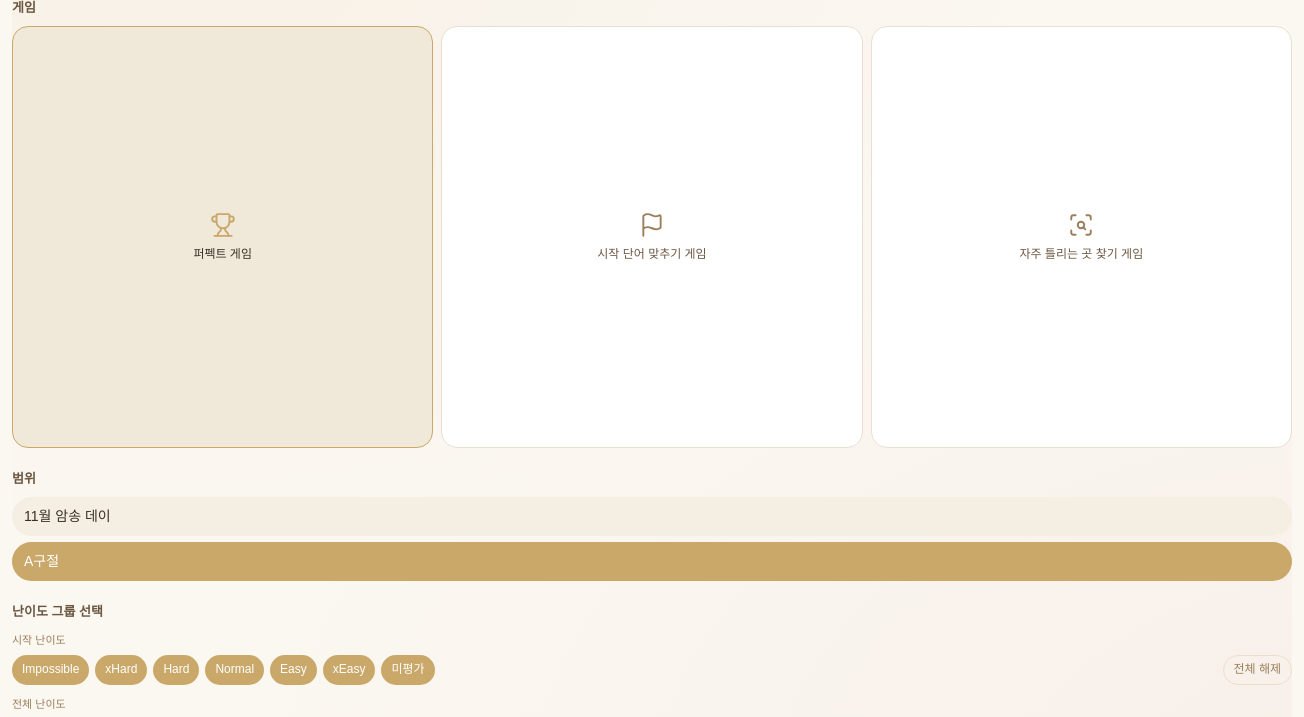
Test: QuizScopePicker — games › disables Quiz! when 자주 틀리는 곳 찾기 has nothing to ask, and says why
This screenshot has width=1304, height=717.
Click the button "자주 틀리는 곳 찾기 게임" at (1081, 237), box [871,26,1292,448]
(page scrolled)
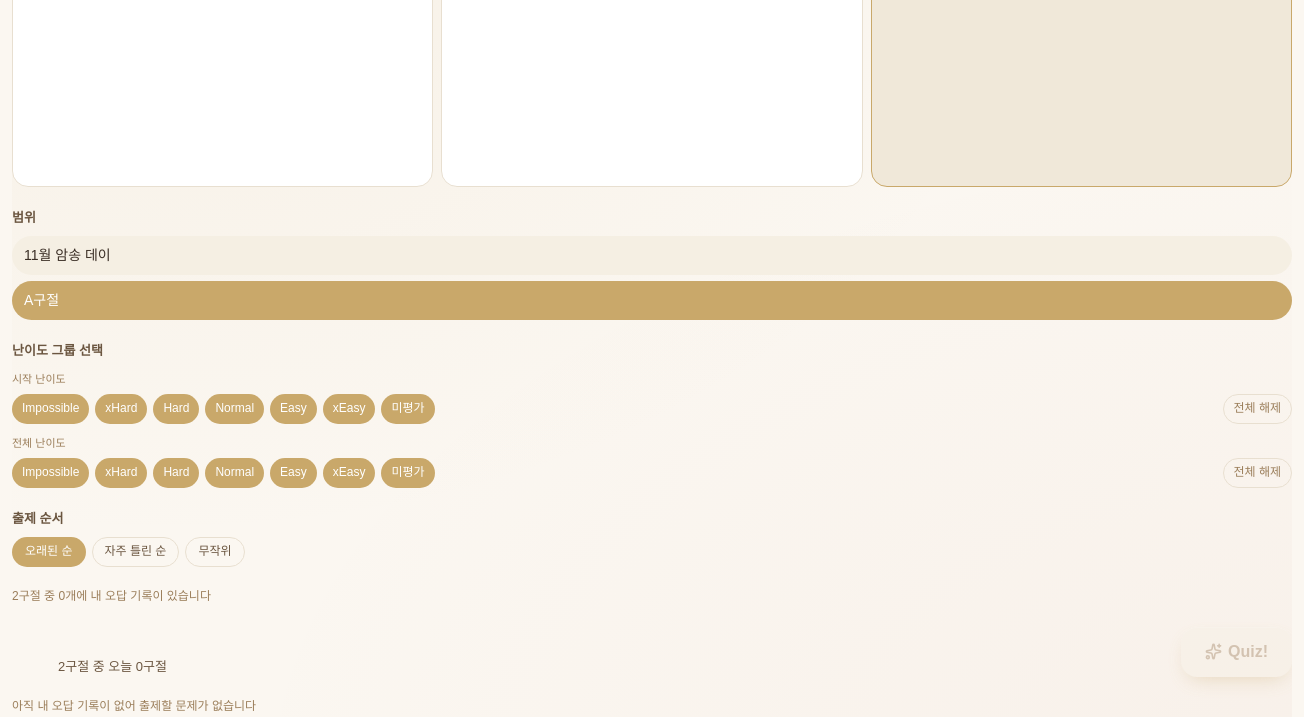
Expected: the button "Quiz!" is disabled, [1181,627,1292,677]
Expected: the text "아직 내 오답 기록이 없어 출제할 문제가 없습니다" is shown, [12,699,256,713]
